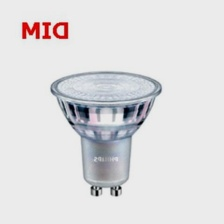light_bulb: (44, 65, 164, 199)
